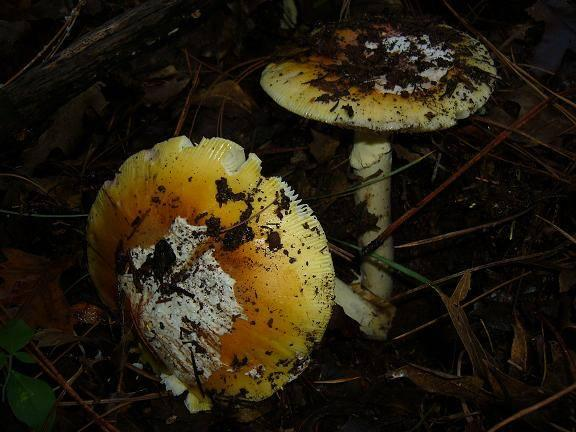Edible Mushroom: (258, 16, 500, 340), (84, 133, 336, 411)
